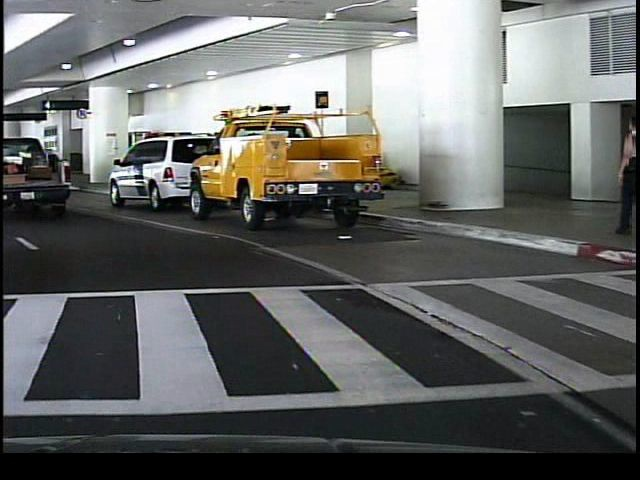person: (606, 109, 640, 239)
